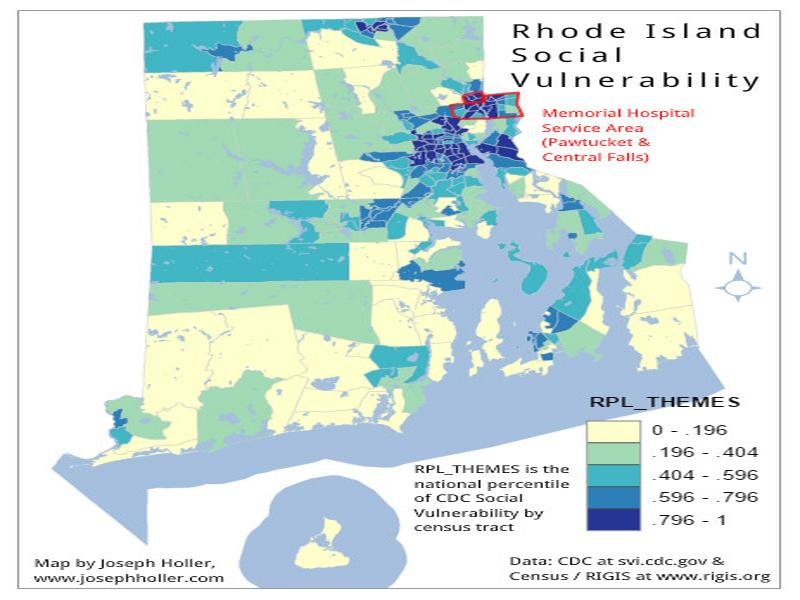legend: (582, 390, 761, 533)
